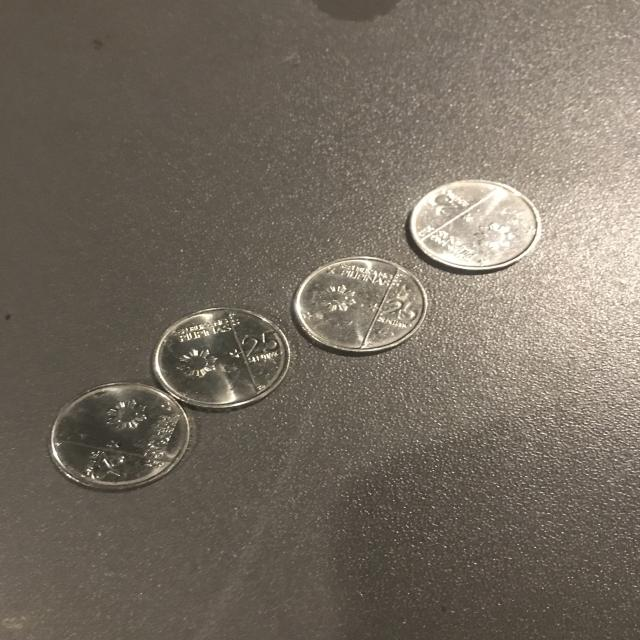25Cent_New_Front: (62, 396, 175, 483), (166, 318, 283, 402), (315, 263, 420, 346)
